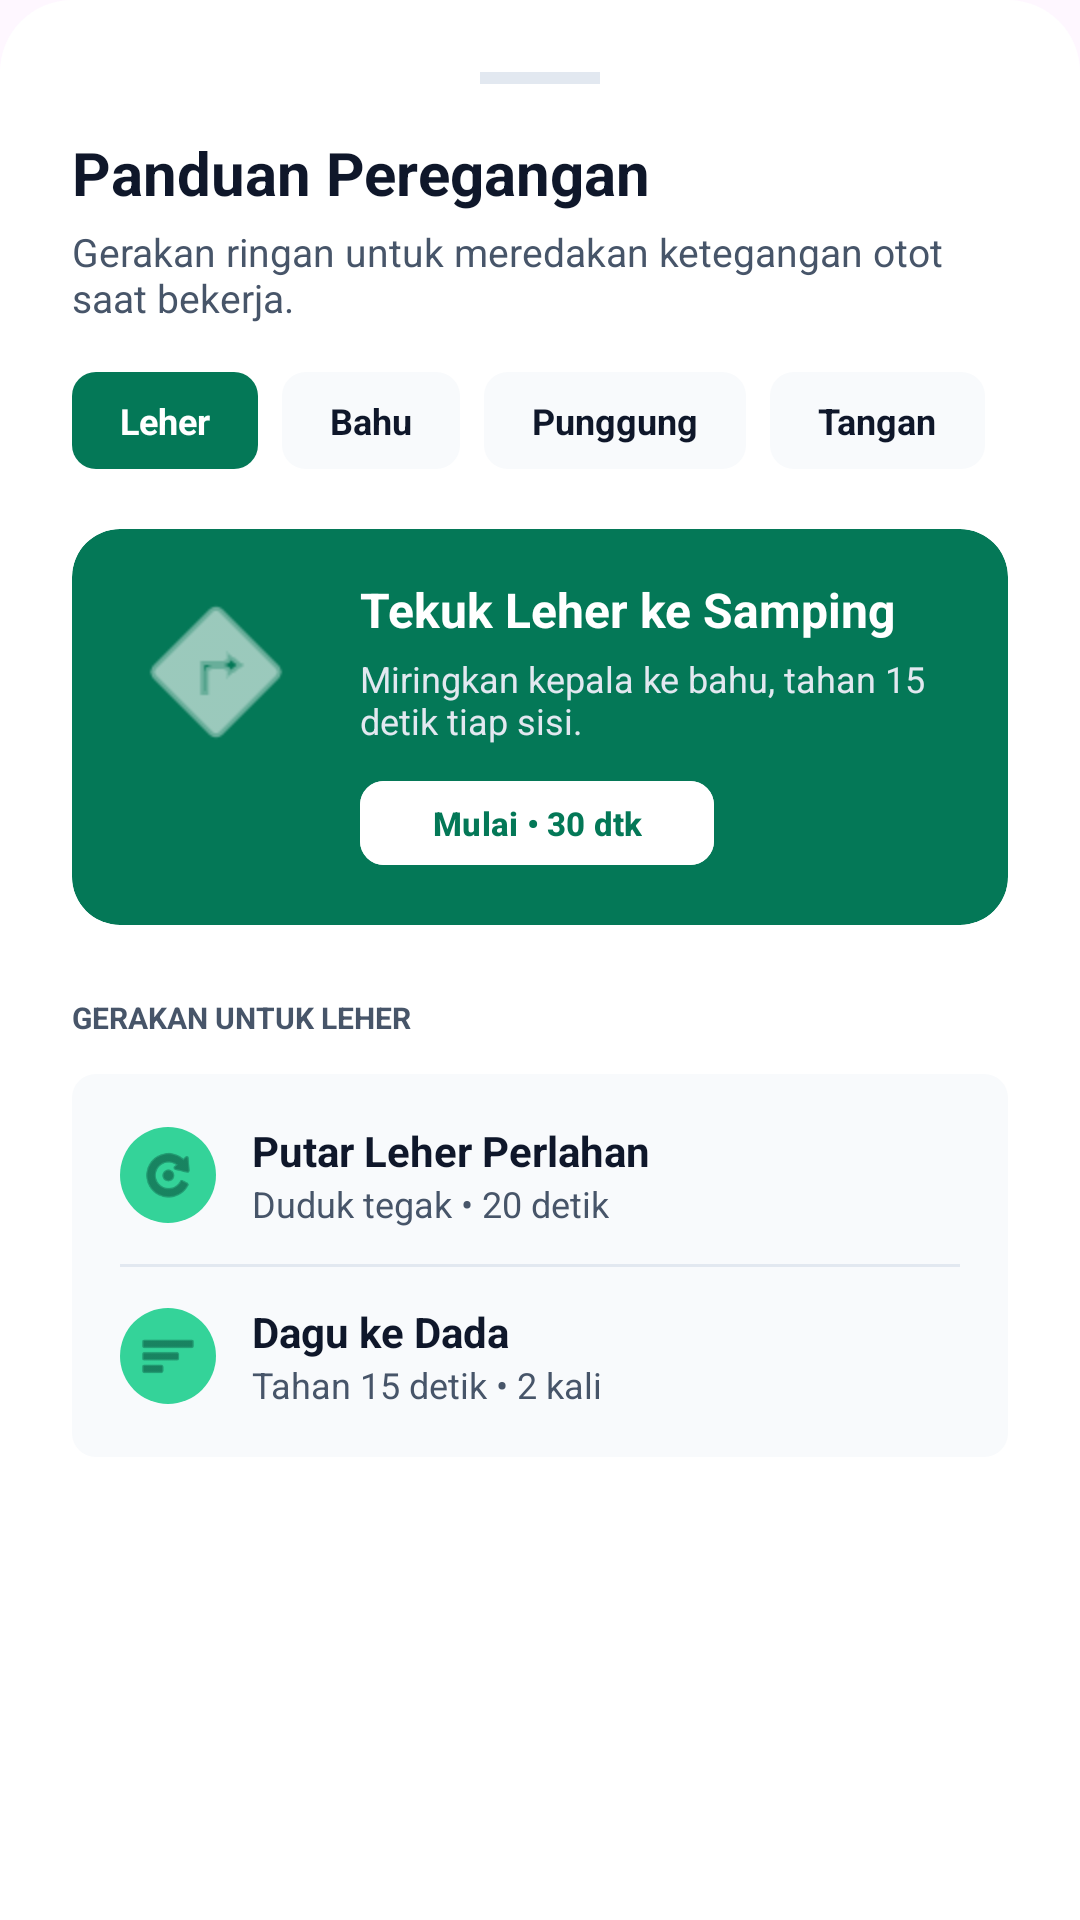

Where icons sit on this 1080*1920 app screen, as Rect(x1, y1, x2, y2):
directions: Rect(150, 606, 282, 738)
rotate: Rect(120, 1127, 216, 1223)
sort by size: Rect(120, 1308, 216, 1404)
